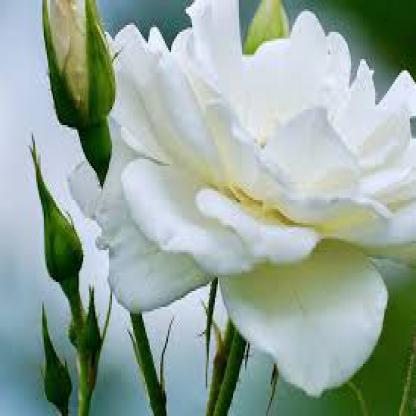Rose-Mawar: (62, 3, 416, 399)
